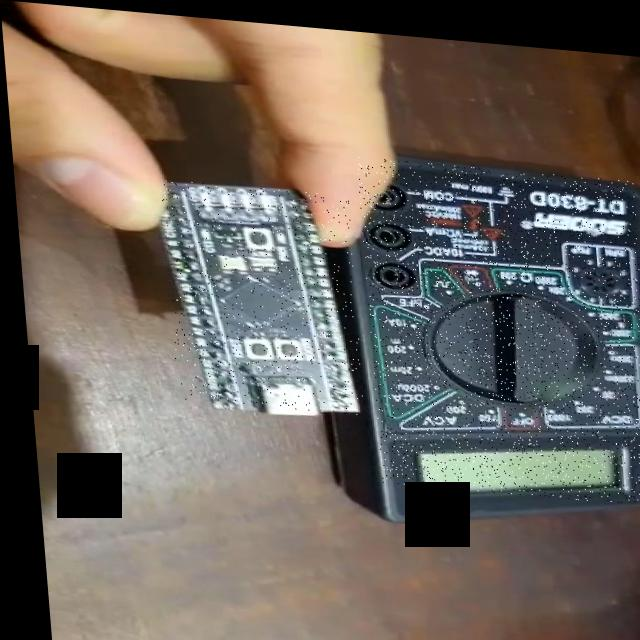multimeter: (354, 150, 640, 496)
stm32: (158, 176, 360, 409)
